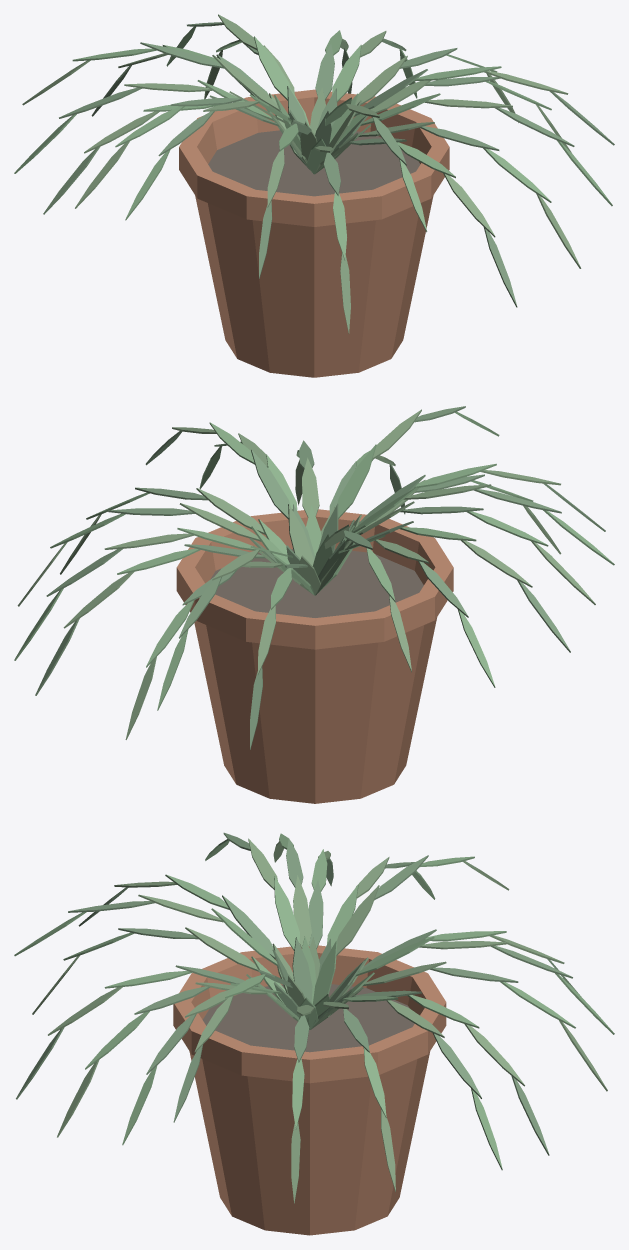
Rendered from a-low-poly-fern-85323-lowpoly.glb.
The picture shows the model from 3 angles, top to bottom: view 1: azimuth 30°, elevation 25°; view 2: azimuth 150°, elevation 25°; view 3: azimuth 270°, elevation 25°; orthographic projection. The views are drawn at different scales.
Parts seen in each view (by area): view 1: plant; view 2: plant; view 3: plant.
Part boxes in pixels (box(x1,y1,x2,y2)): plant: box(14, 14, 614, 377); plant: box(14, 406, 614, 803); plant: box(14, 832, 614, 1235).
Bounding box in the file's own units: 0.6724 × 0.3604 × 0.669.
